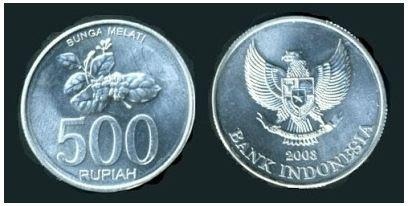coin_500_e2003: (210, 14, 390, 190), (19, 17, 196, 193)
